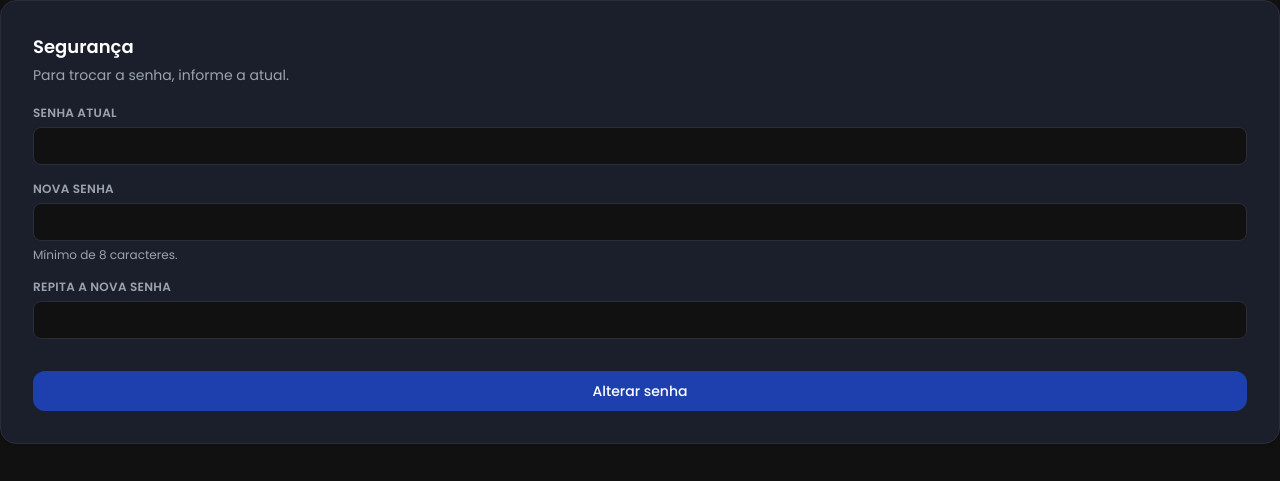
it: AlterarSenha › troca a senha, mostra confirmação e limpa os campos
Type "senha-antiga" into the password field labelled "Senha atual" at coordinates (640, 146), box [33,127,1247,165]
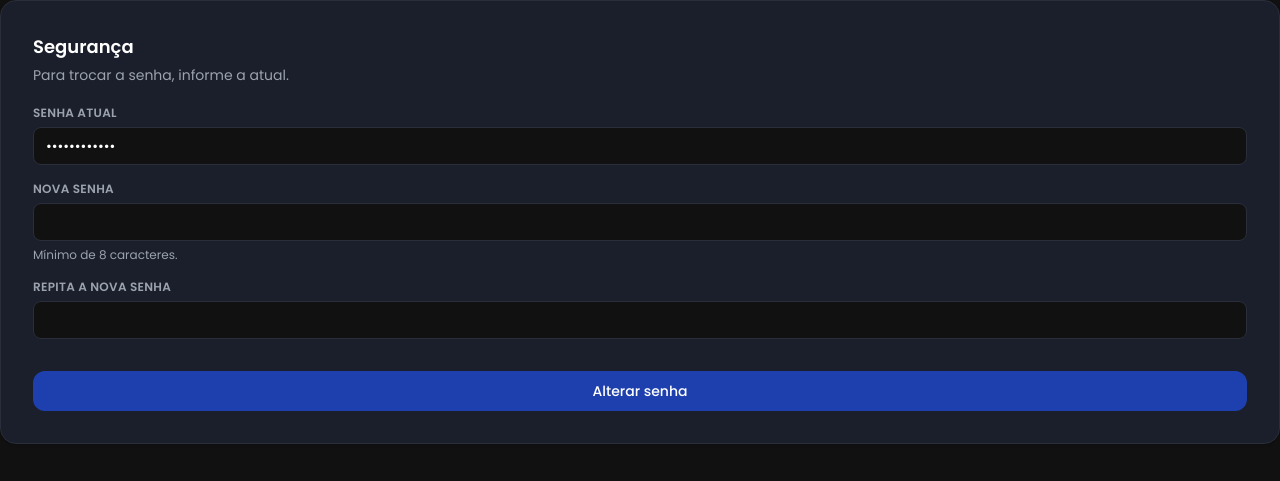
Type "senha-nova-1" into the password field labelled "Nova senha" at coordinates (640, 222), box [33,203,1247,241]
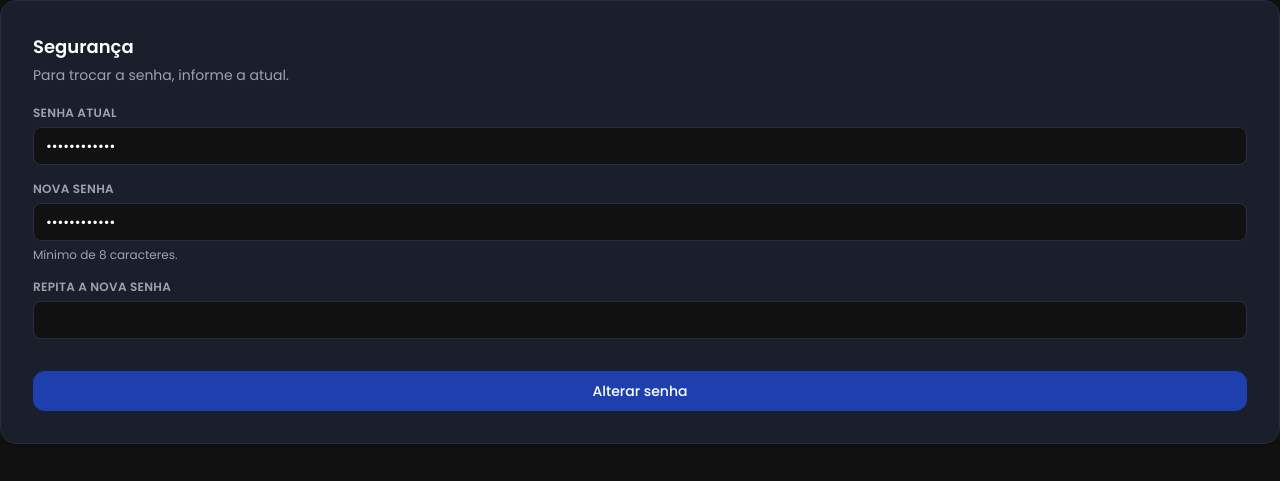
Type "senha-nova-1" into the password field labelled "Repita a nova senha" at coordinates (640, 320), box [33,301,1247,339]
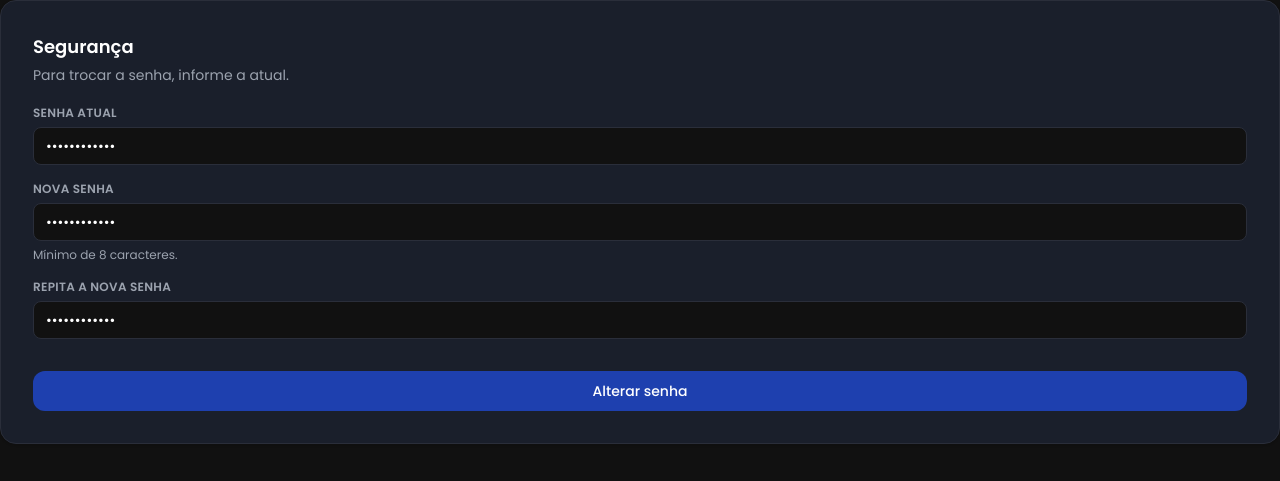
Click the button "Alterar senha" at coordinates (640, 391), box [33,371,1247,411]
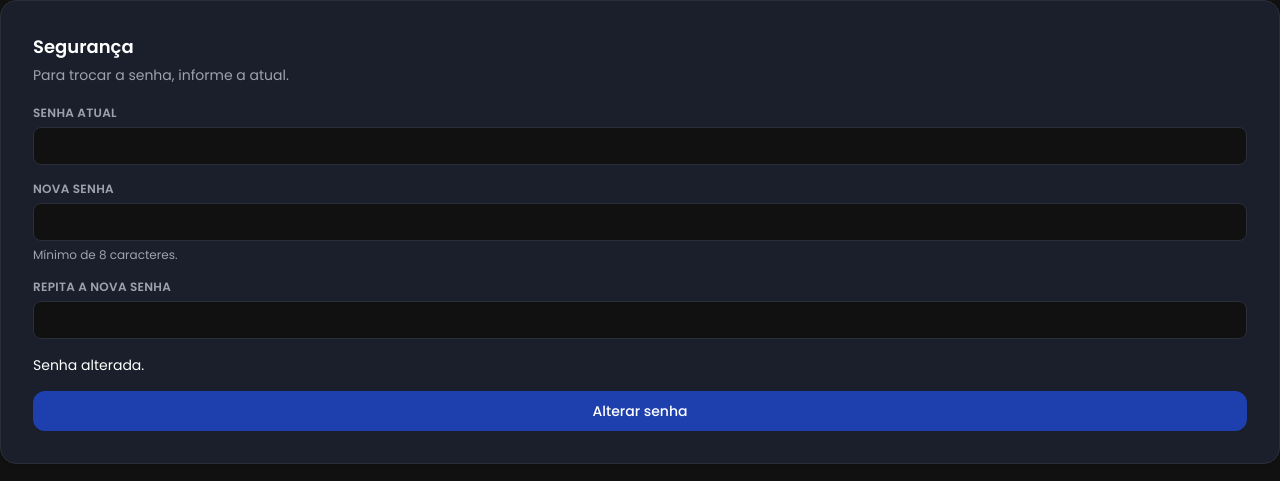
expect the message reads "Senha alterada.": met, box [33,355,144,375]
expect the password field labelled "Senha atual" is empty: met, box [33,127,1247,165]
expect the password field labelled "Nova senha" is empty: met, box [33,203,1247,241]
